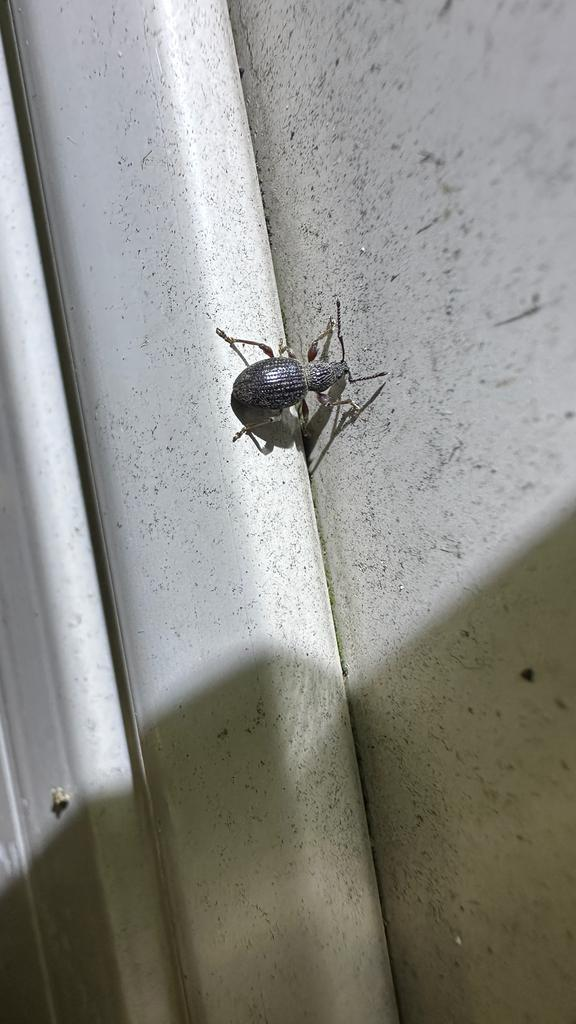weevils: (177, 276, 414, 491)
